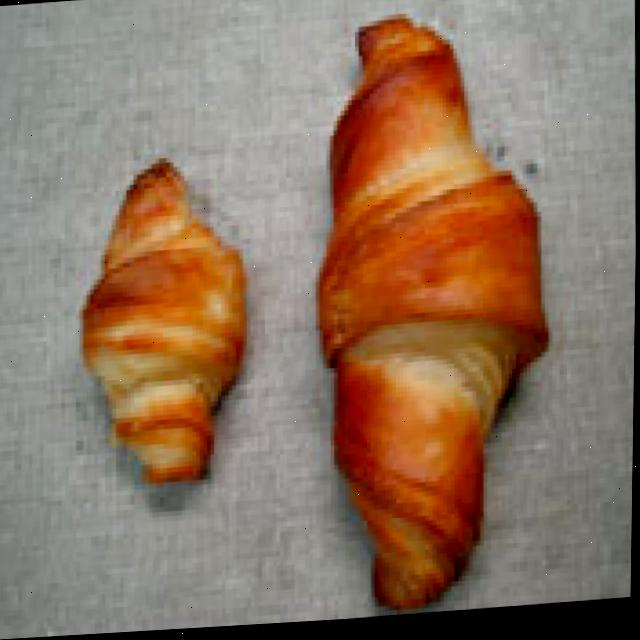面包点心: (285, 0, 568, 626)
